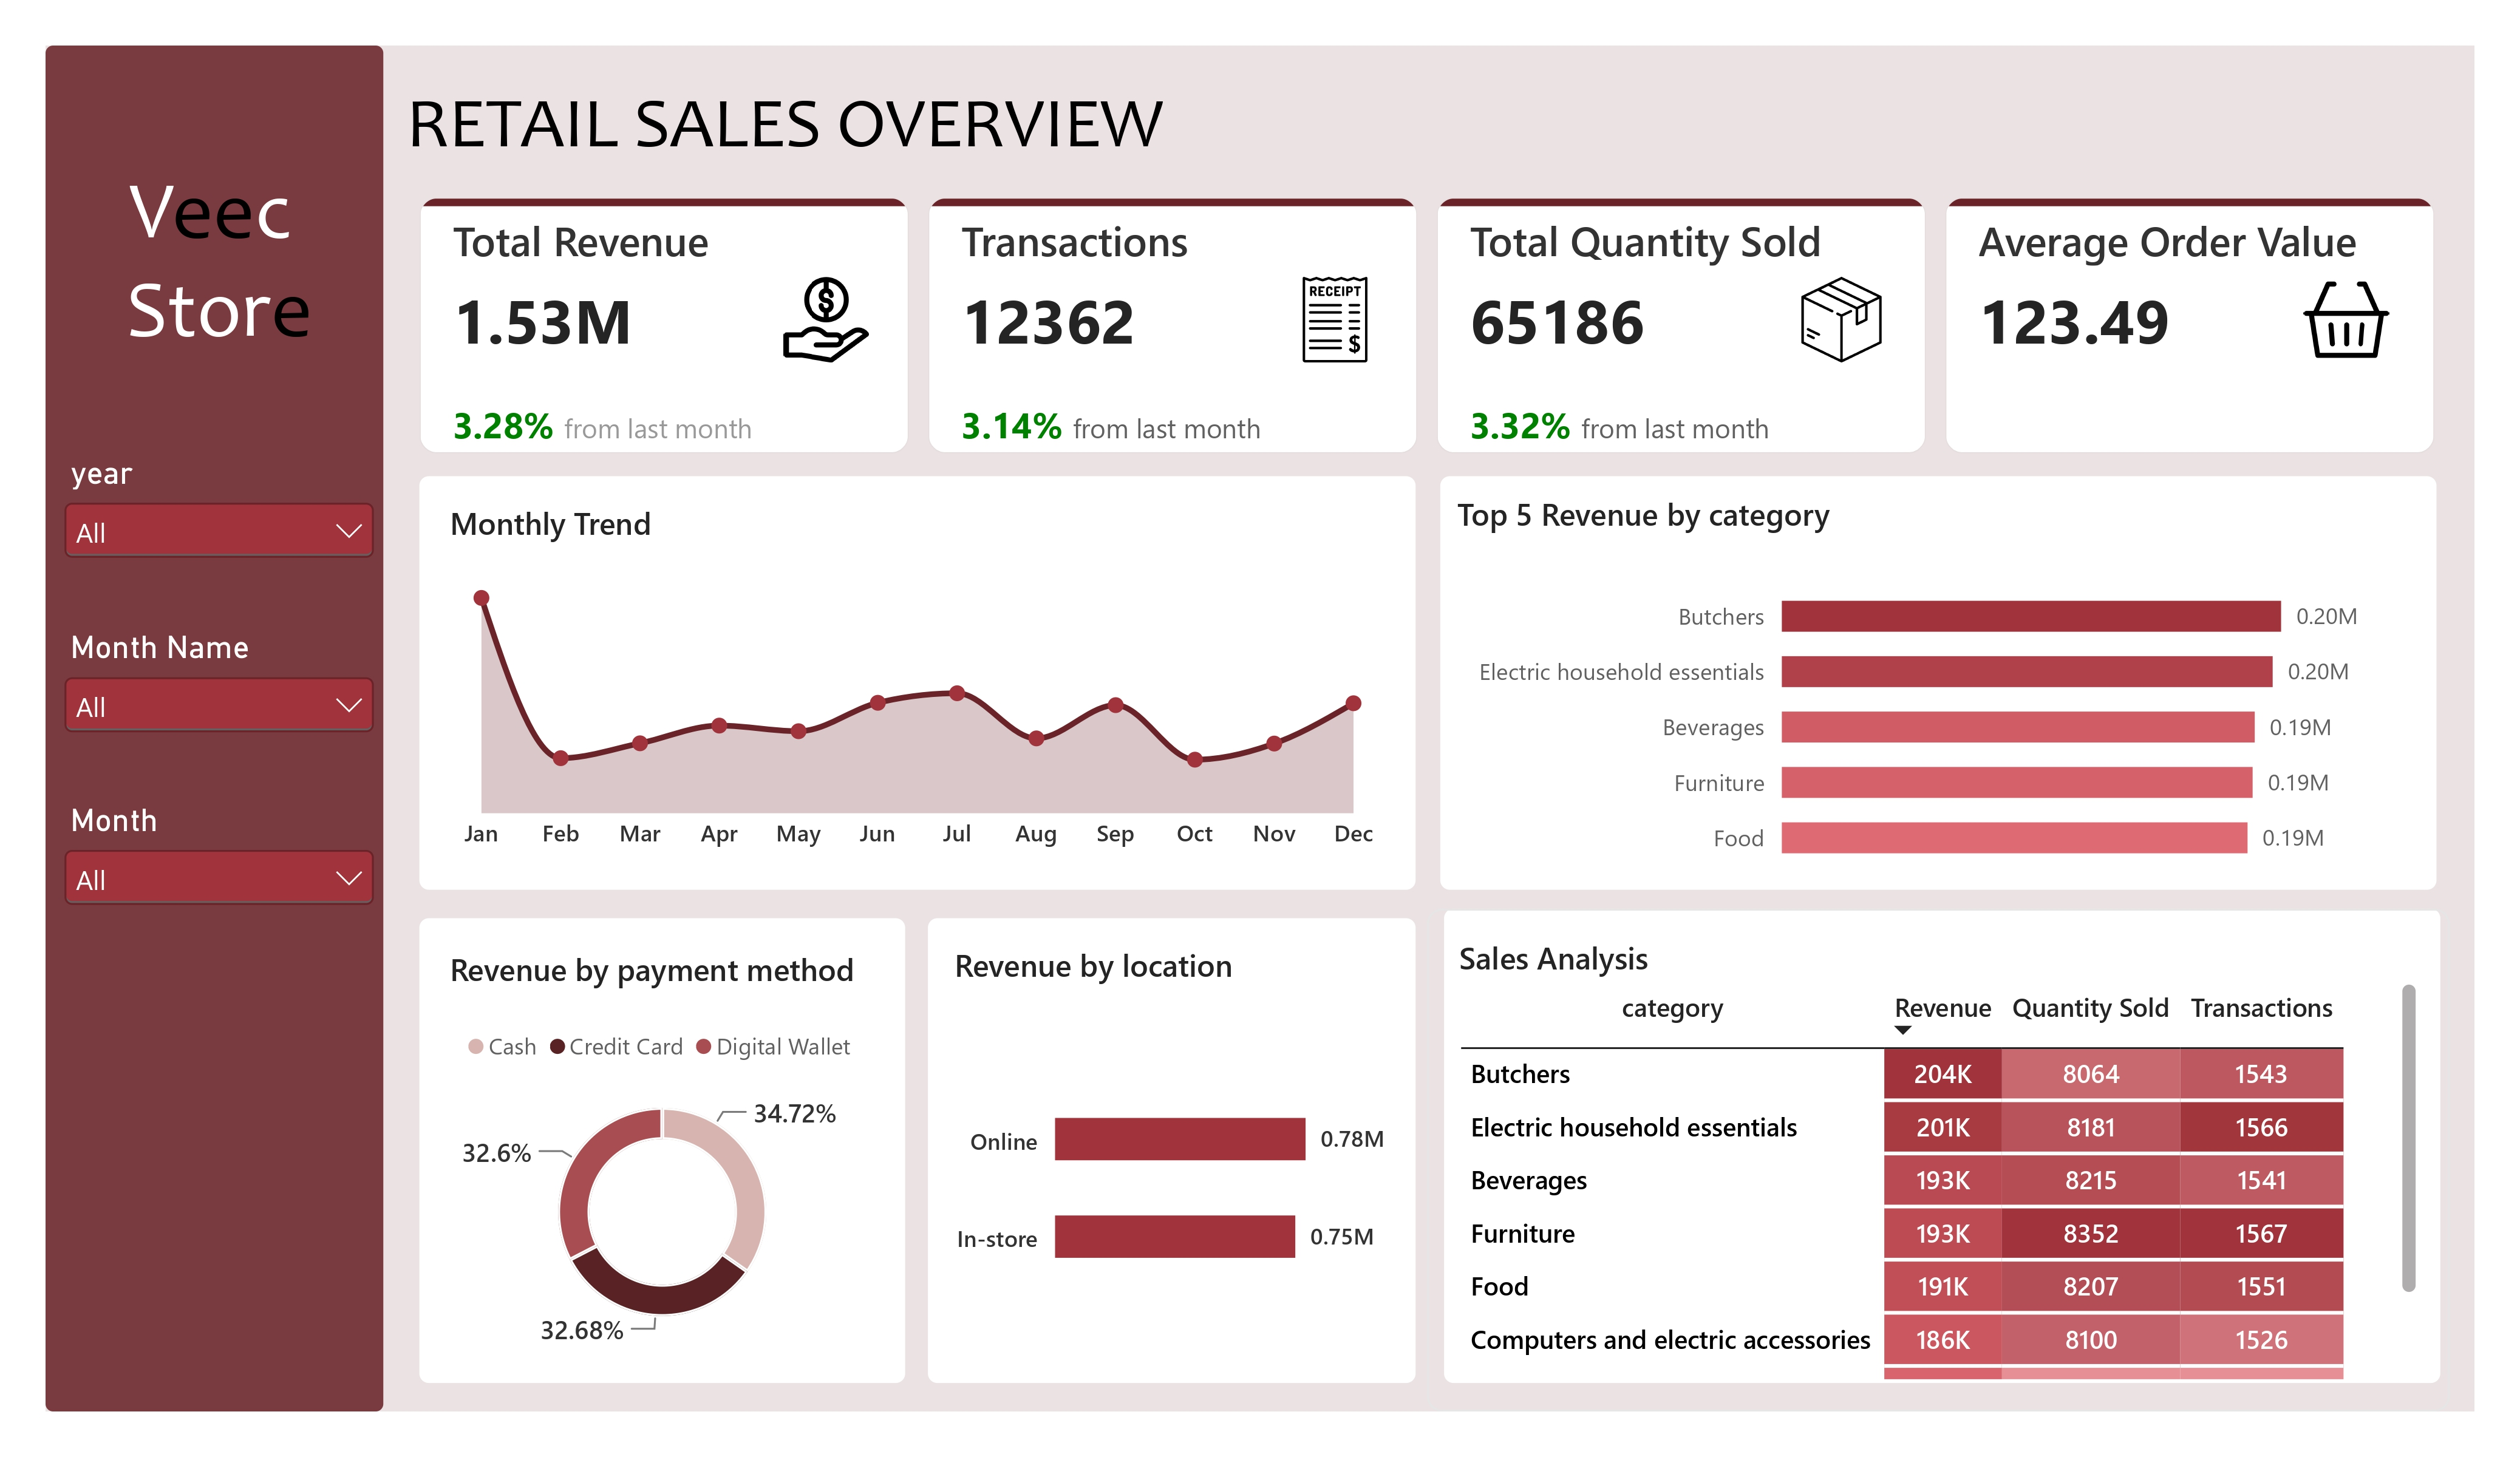

The page's visual inventory and layout, read from the dashboard file:
{"tool":"powerbi","page":{"name":"Page 1","canvas":[1280,720],"ordinal":0},"visuals":[{"type":"shape","box":[0,0,178.3,720],"z":0},{"type":"textbox","box":[190,16.7,450,63.3],"z":1000},{"type":"shape","box":[196.7,226.7,525,218.3],"z":2000},{"type":"cardVisual","fields":{"Data":["MEASURESS.Total Revenue","MEASURESS.Transactions","MEASURESS.Total Quantity Sold","MEASURESS.Average Order Value"]},"box":[196.7,80,1063.3,135],"z":3000},{"type":"slicer","fields":{"Values":["Date.year"]},"box":[5,215,173.3,61.7],"z":4000},{"type":"areaChart","title":"Monthly Trend","fields":{"Category":["Date.Month Name"],"Y":["MEASURESS.Total Revenue"]},"box":[196.7,226.7,525,218.3],"z":5000},{"type":"shape","box":[196.7,460,256.7,245],"z":6000},{"type":"shape","box":[465,460,256.7,245],"z":7000},{"type":"donutChart","fields":{"Category":["cleaned_reatail_store_data.payment_method"],"Y":["MEASURESS.Total Revenue"]},"box":[196.7,461.7,256.7,243.3],"z":8000},{"type":"shape","box":[736.7,455,525,250],"z":9000},{"type":"barChart","fields":{"Category":["cleaned_reatail_store_data.location"],"Y":["MEASURESS.Total Revenue"]},"box":[463.3,460,258.3,245],"z":10000},{"type":"shape","box":[735,226.7,525,218.3],"z":11000},{"type":"slicer","fields":{"Values":["Date.Month Name"]},"box":[5,306.7,173.3,61.7],"z":12000},{"type":"slicer","fields":{"Values":["cleaned_reatail_store_data.category"]},"box":[5,398.3,173.3,61.7],"z":13000},{"type":"textbox","box":[5,60,173.3,138.3],"z":14000},{"type":"barChart","title":"Top 5 Revenue by category","fields":{"Category":["cleaned_reatail_store_data.category"],"Y":["MEASURESS.Total Revenue"]},"box":[728.3,221.7,525,233.3],"z":15000},{"type":"tableEx","title":"Sales Analysis","fields":{"Values":["cleaned_reatail_store_data.category","MEASURESS.Total Revenue","MEASURESS.Total Quantity Sold","MEASURESS.Transactions"]},"box":[728.3,455,538.3,265],"z":16000},{"type":"image","box":[657.1,122.2,45,45],"z":17000},{"type":"image","box":[388.9,122.2,45,45],"z":18000},{"type":"image","box":[923.8,122.2,45,45],"z":19000},{"type":"image","box":[1190.5,122.2,45,45],"z":20000}]}

Visuals, with their boxes on the page's 1280x720 design canvas (x1, y1, x2, y2). These are canvas units, not pixel positions in the 2520x1457 screenshot, which may show the page scaled, cropped or inside an application window:
shape: (left=0, top=0, right=178, bottom=720)
textbox: (left=190, top=17, right=640, bottom=80)
shape: (left=197, top=227, right=722, bottom=445)
cardVisual - MEASURESS.Total Revenue x MEASURESS.Transactions: (left=197, top=80, right=1260, bottom=215)
slicer - Date.year: (left=5, top=215, right=178, bottom=277)
"Monthly Trend" areaChart: (left=197, top=227, right=722, bottom=445)
shape: (left=197, top=460, right=453, bottom=705)
shape: (left=465, top=460, right=722, bottom=705)
donutChart - cleaned_reatail_store_data.payment_method x MEASURESS.Total Revenue: (left=197, top=462, right=453, bottom=705)
shape: (left=737, top=455, right=1262, bottom=705)
barChart - cleaned_reatail_store_data.location x MEASURESS.Total Revenue: (left=463, top=460, right=722, bottom=705)
shape: (left=735, top=227, right=1260, bottom=445)
slicer - Date.Month Name: (left=5, top=307, right=178, bottom=368)
slicer - cleaned_reatail_store_data.category: (left=5, top=398, right=178, bottom=460)
textbox: (left=5, top=60, right=178, bottom=198)
"Top 5 Revenue by category" barChart: (left=728, top=222, right=1253, bottom=455)
"Sales Analysis" tableEx: (left=728, top=455, right=1267, bottom=720)
image: (left=657, top=122, right=702, bottom=167)
image: (left=389, top=122, right=434, bottom=167)
image: (left=924, top=122, right=969, bottom=167)
image: (left=1190, top=122, right=1236, bottom=167)
